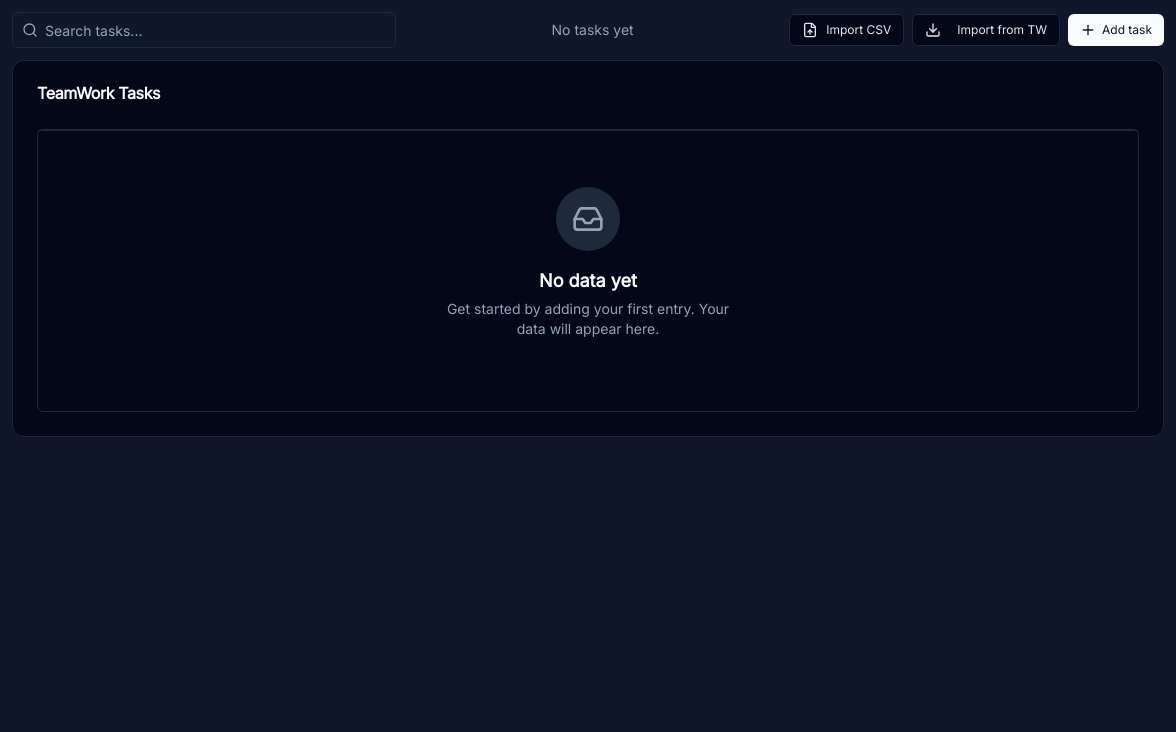
WorkTimeForm validation a11y (UX-408) › exposes aria-invalid/aria-describedby/aria-required on the TasksTable add-task form after an invalid submit
The image size is (1176, 732).
Click the button "Add task".
click(1116, 30)  # box [1068,14,1164,46]
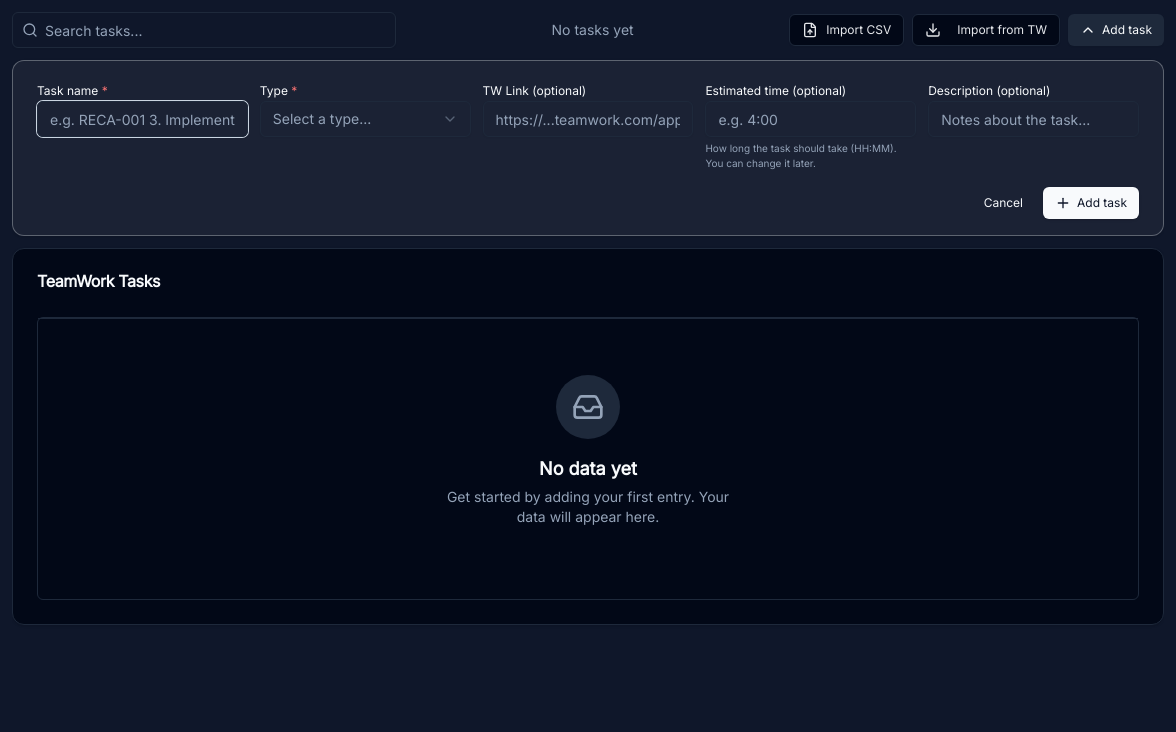
Click the button "Add task" below "Estimated time (optional)".
click(1091, 203)  # box [1043,187,1139,219]
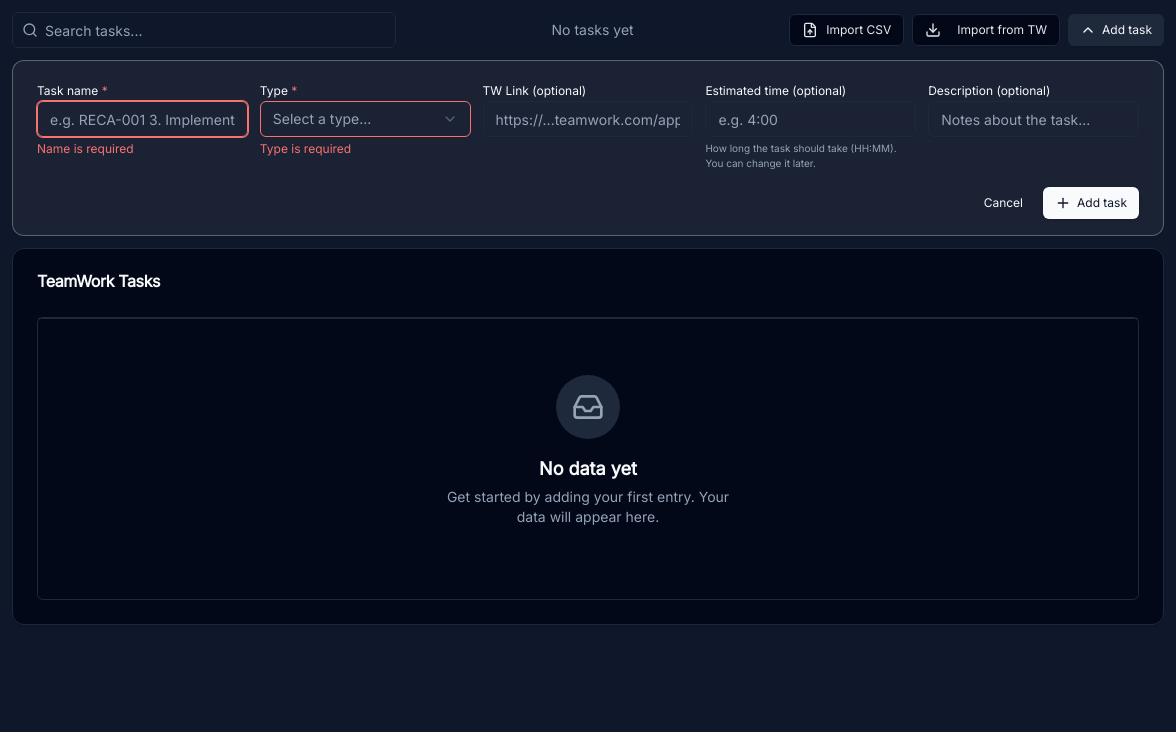
Result: the text "Name is required" is shown at [37,141,134,156]
Result: the text "Type is required" is shown at [260,141,351,156]
